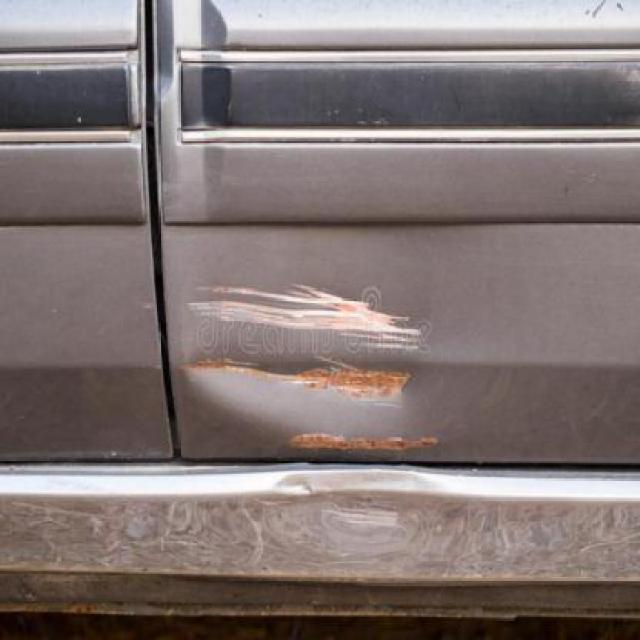RunningBoard-Dent: (245, 466, 485, 562)
doorouter-dent: (180, 269, 452, 456)
